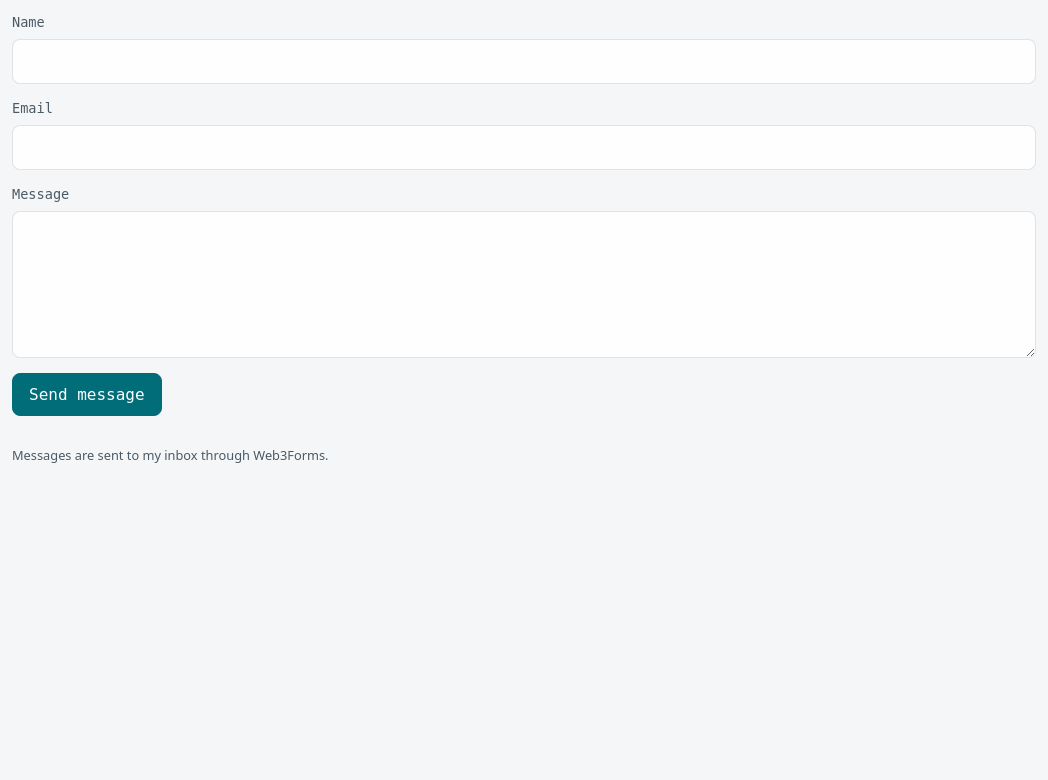
Test: ContactForm › failed validation puts a summary in the status region
Step 1. Type "Ada" into the field labelled "Name" → coordinates (524, 61), box [12,38,1036,84]
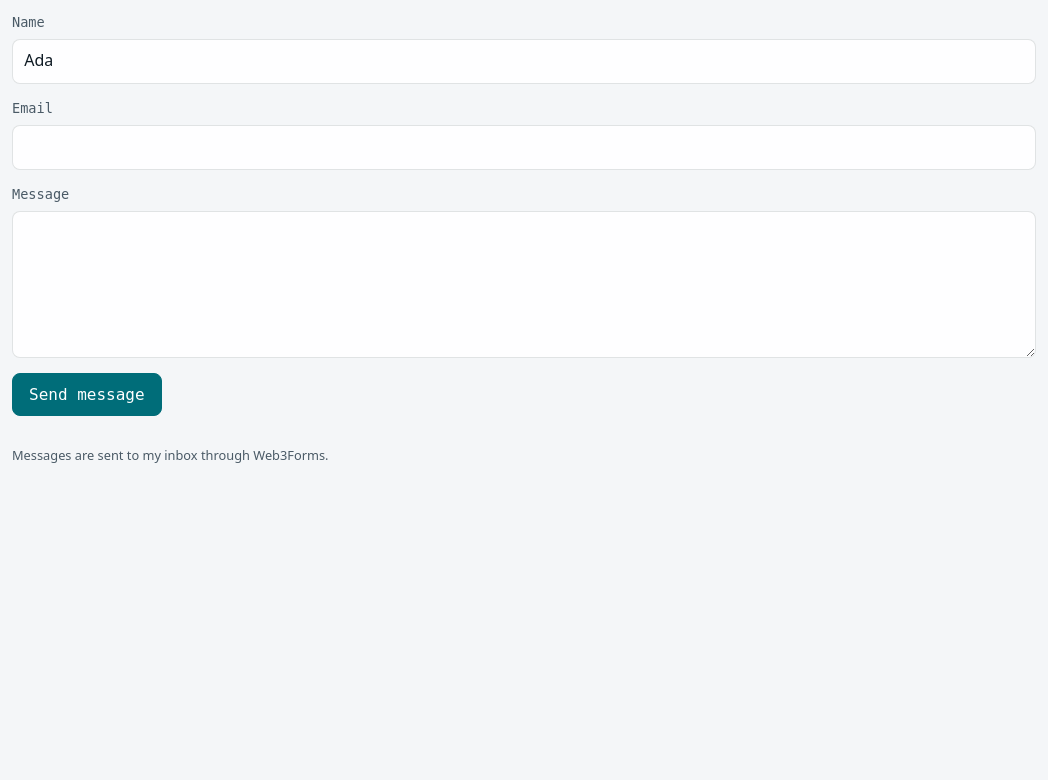
Step 2. Click the button "Send message" → coordinates (87, 395), box [12,373,162,416]
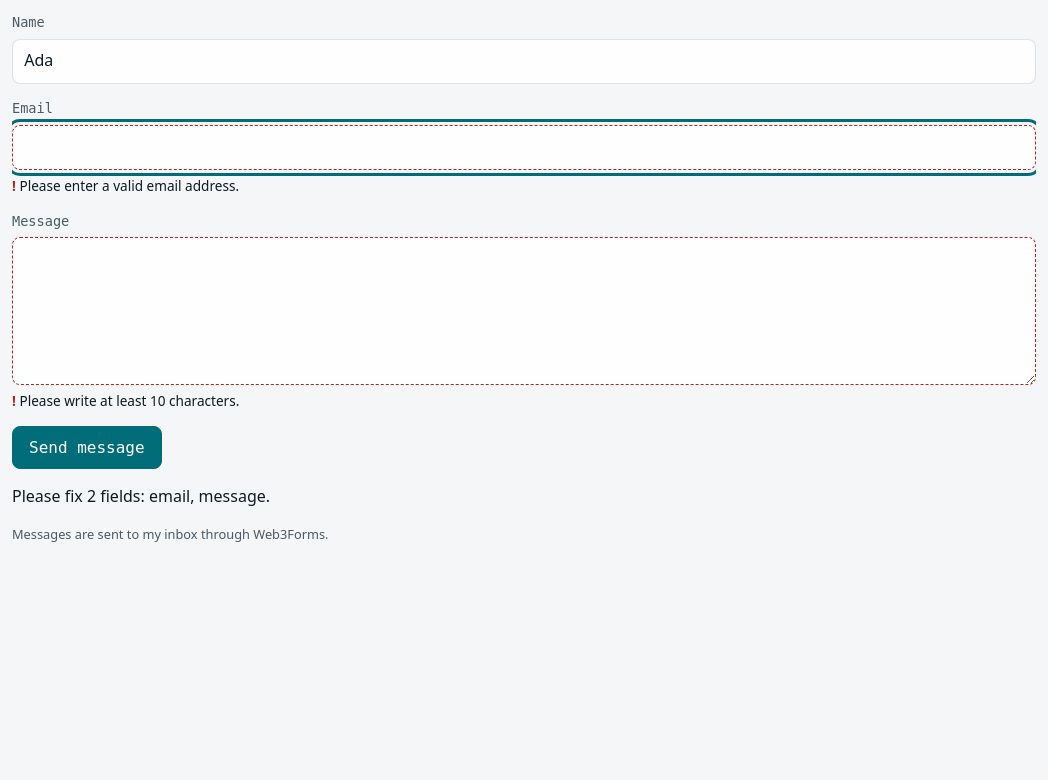
Result: the message reads "Please fix 2 fields: email, message." at [12,485,270,507]
